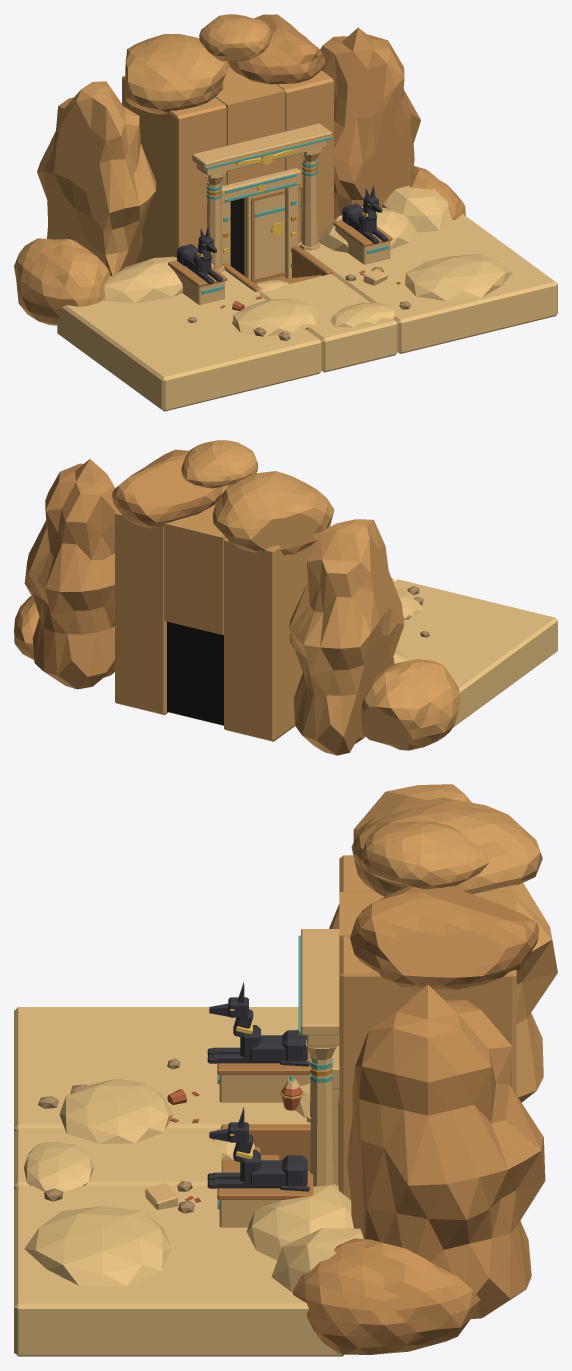
The model's file is desert-tomb-entrance.glb.
3 renders of one model, top to bottom at view 1: azimuth 30°, elevation 25°; view 2: azimuth 150°, elevation 25°; view 3: azimuth 270°, elevation 25°, orthographic. The views are drawn at different scales.
Visible parts, largest first — view 1: Sand_Left, CliffRock_1, Sand_Right, CliffRock_2, Cliff_Left, CliffRock_5, CliffRock_3, Sand_Front, Cliff_OverDoor, Cliff_Right, Dune_5, CliffRock_6 (+21 smaller); view 2: CliffRock_1, CliffRock_2, Cliff_Left, Sand_Left, Cliff_Right, CliffRock_5, CliffRock_3, Cliff_OverDoor, Tomb_Dark, CliffRock_6, CliffRock_7, CliffRock_4 (+1 smaller); view 3: CliffRock_2, Sand_Right, Sand_Left, CliffRock_4, CliffRock_6, Cliff_Right, Dune_5, CliffRock_5, Sand_Front, CliffRock_1, CliffRock_7, Dune_3 (+16 smaller).
Boxes of the visible parts, <box> form: Sand_Left: <box>57,269,321,411</box>; CliffRock_1: <box>37,81,156,276</box>; Sand_Right: <box>298,214,557,353</box>; CliffRock_2: <box>320,27,420,219</box>; Cliff_Left: <box>122,76,226,263</box>; CliffRock_5: <box>125,34,229,114</box>; CliffRock_3: <box>14,238,110,325</box>; Sand_Front: <box>259,274,397,372</box>; Cliff_OverDoor: <box>215,67,285,184</box>; Cliff_Right: <box>276,70,333,276</box>; Dune_5: <box>405,254,512,300</box>; CliffRock_6: <box>227,14,325,84</box>; CliffRock_1: <box>289,519,404,755</box>; CliffRock_2: <box>24,459,117,689</box>; Cliff_Left: <box>224,525,330,741</box>; Sand_Left: <box>393,579,557,727</box>; Cliff_Right: <box>115,509,168,714</box>; CliffRock_5: <box>212,471,334,555</box>; CliffRock_3: <box>361,659,459,750</box>; Cliff_OverDoor: <box>164,485,228,634</box>; Tomb_Dark: <box>167,621,223,725</box>; CliffRock_6: <box>112,449,222,528</box>; CliffRock_7: <box>181,440,257,488</box>; CliffRock_4: <box>14,596,39,659</box>; CliffRock_2: <box>347,985,545,1318</box>; Sand_Right: <box>14,1185,344,1356</box>; Sand_Left: <box>14,1007,310,1131</box>; CliffRock_4: <box>292,1238,480,1354</box>; CliffRock_6: <box>350,886,538,989</box>; Cliff_Right: <box>339,936,516,1199</box>; Dune_5: <box>24,1206,171,1286</box>; CliffRock_5: <box>351,797,542,896</box>; Sand_Front: <box>14,1128,221,1189</box>; CliffRock_1: <box>329,784,557,1102</box>; CliffRock_7: <box>362,821,489,889</box>; Dune_3: <box>59,1078,172,1143</box>.
Size of the model in its own units: 51.7 by 28.68 by 36.79.
2 materials, 1 textured.
